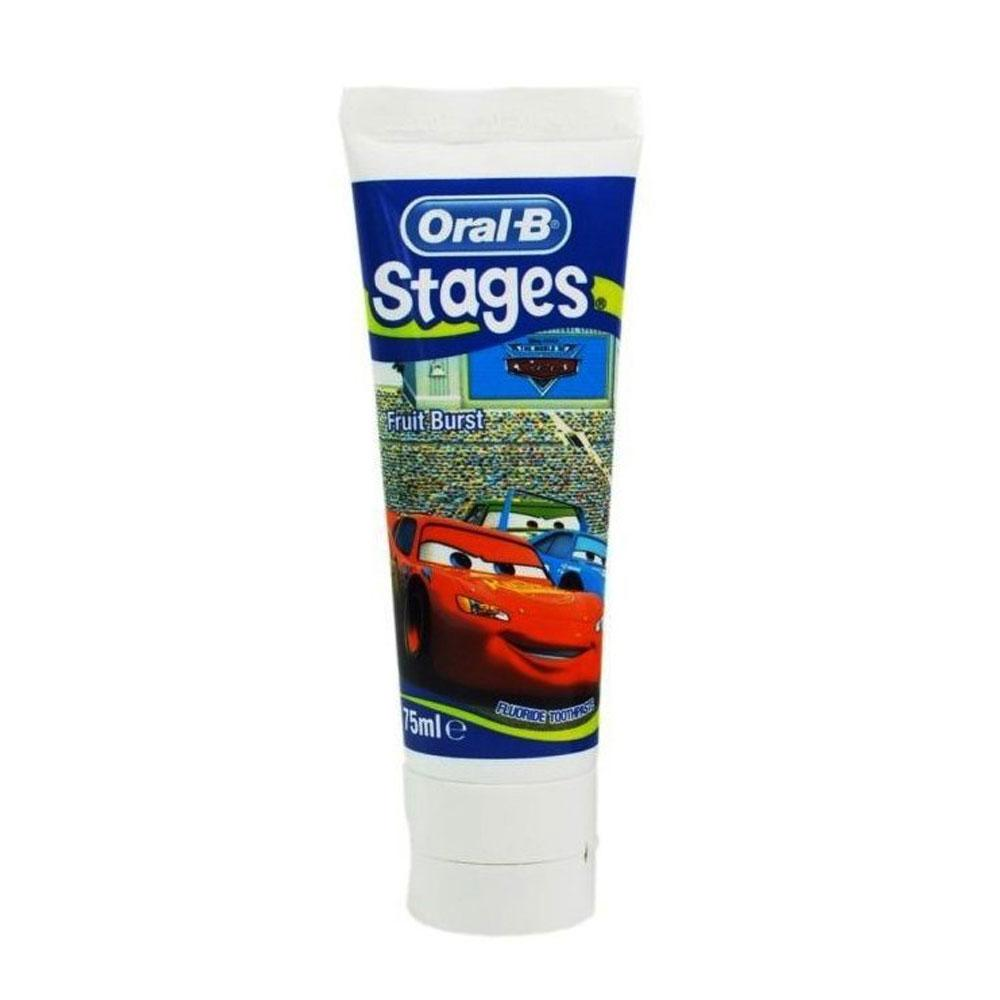toothpaste: (322, 72, 666, 938)
